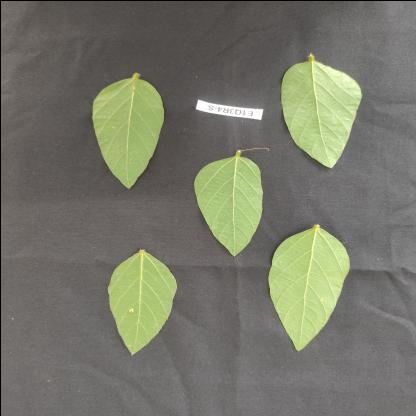label: (186, 90, 272, 120)
leaflets: (274, 50, 378, 175), (92, 252, 204, 368), (76, 69, 173, 198), (264, 231, 350, 350), (188, 146, 272, 255)
